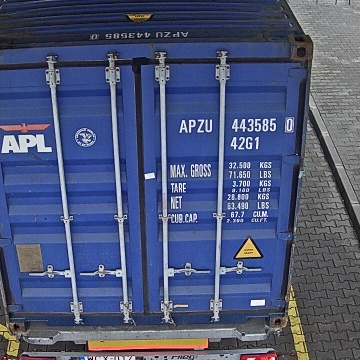serial_id: (179, 118, 293, 133)
